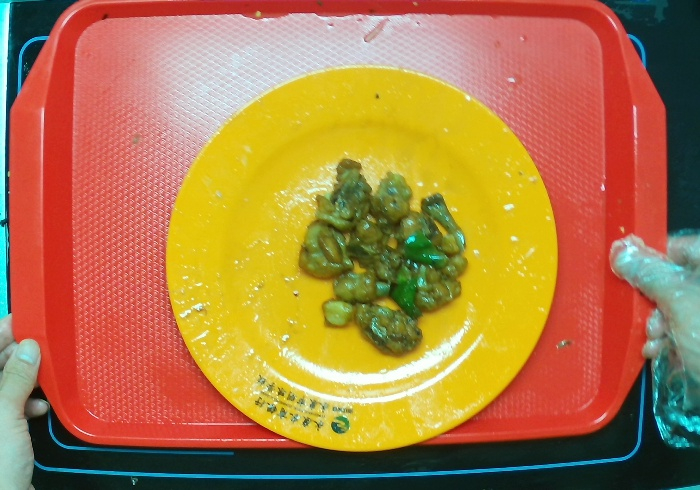YKMZ-Ju_Se_Mian_Pan: (163, 65, 558, 460)
